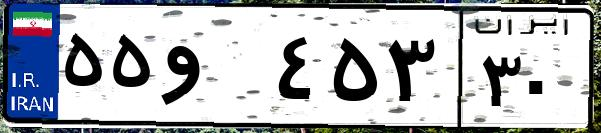0: (525, 38, 570, 115)
3: (385, 28, 445, 110), (475, 38, 525, 113)
4: (270, 28, 330, 110)
5: (330, 28, 385, 110), (57, 26, 110, 100), (110, 28, 158, 98)
و: (158, 20, 270, 120)
